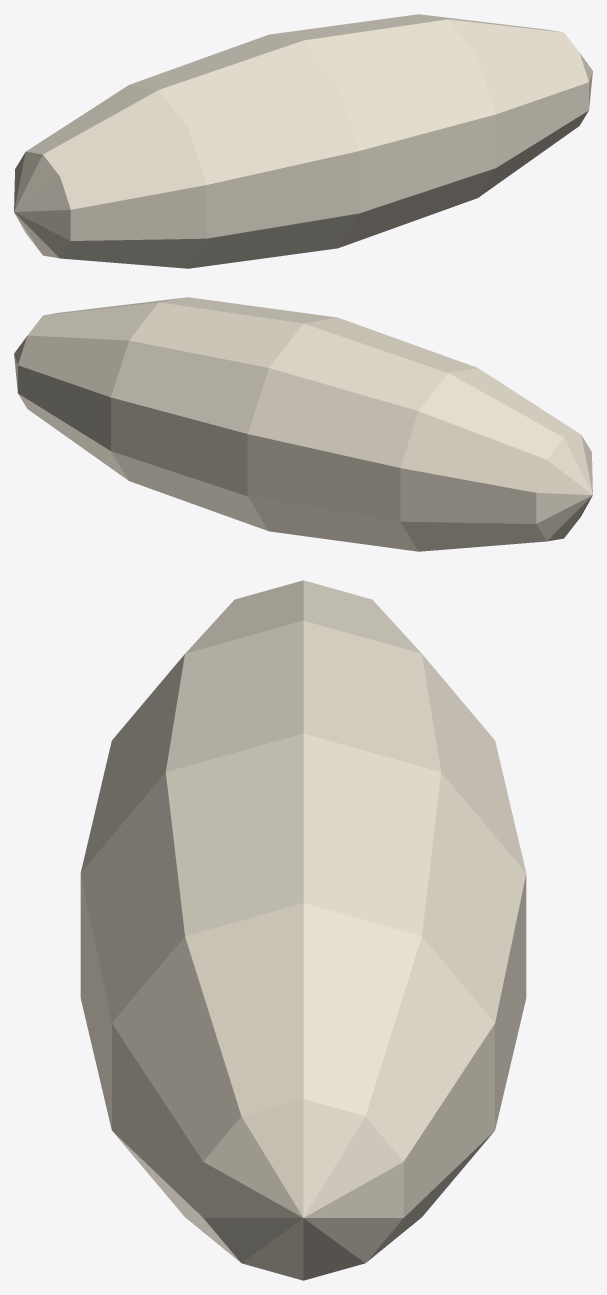
The model's file is rice_grain.glb.
3 views of the same model, one above another, from view 1: azimuth 30°, elevation 25°; view 2: azimuth 150°, elevation 25°; view 3: azimuth 270°, elevation 25° (orthographic). The views are drawn at different scales.
Parts seen in each view (by area): view 1: Ivory rice grain; view 2: Ivory rice grain; view 3: Ivory rice grain.
Boxes of the visible parts, box(x1,y1,x2,y2) form: Ivory rice grain: box(14, 14, 592, 268); Ivory rice grain: box(14, 297, 592, 551); Ivory rice grain: box(80, 580, 526, 1280).
Size of the model in its own units: 0.006 by 0.002 by 0.002.
